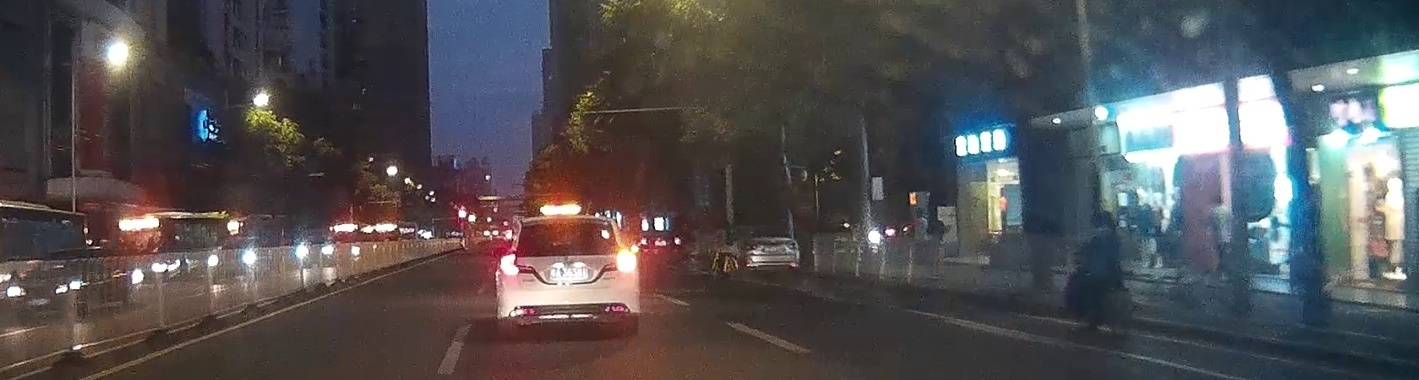L_light: (500, 253, 520, 277)
R_light: (618, 250, 636, 272)
T_light: (556, 223, 578, 228)
night-no: (497, 216, 641, 336)
